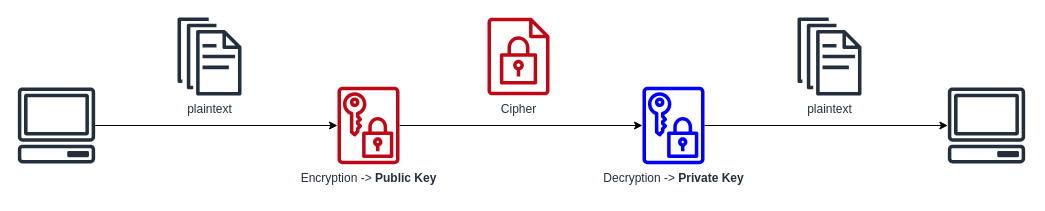
Image size: 1045x211. Some labels were removed from this diagram. The shapes that lost their labels are listed below. From the top down, each one's box as (x1, y1, x2, y2) in pixels, then its label:
(17, 87, 95, 163): Sender
(947, 87, 1025, 163): Receiver
